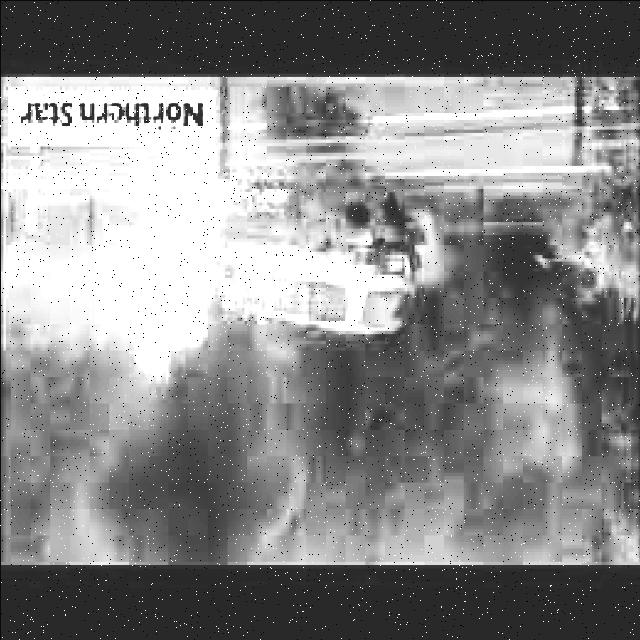api: (107, 163, 269, 371)
